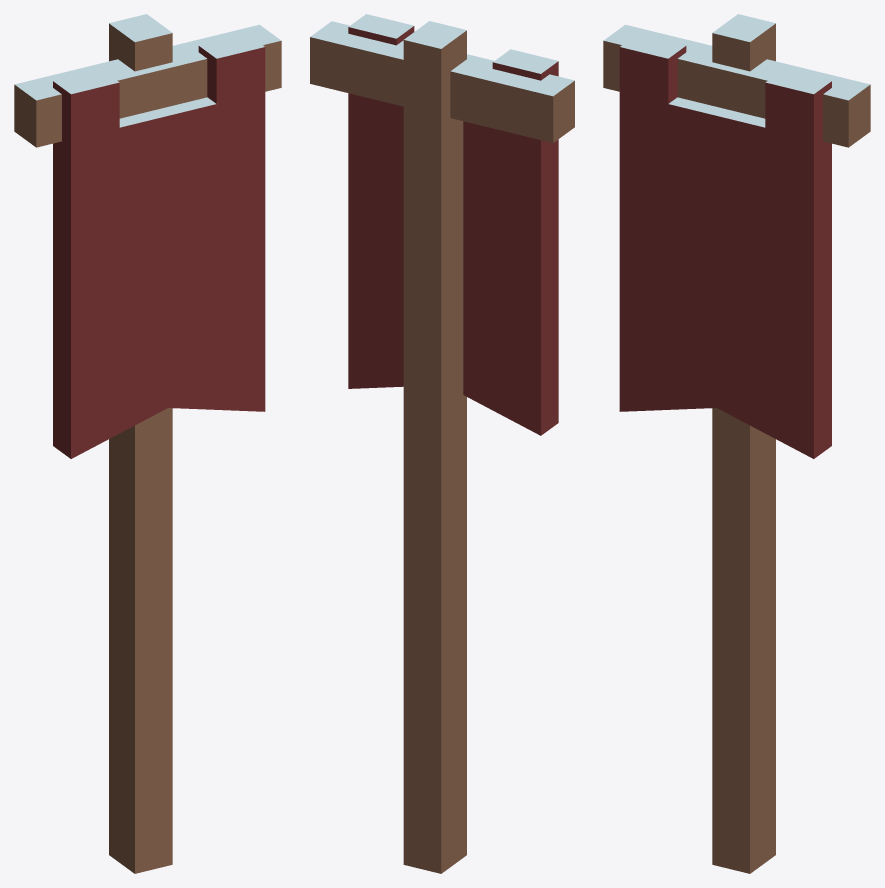
File: SM_Bld_Knights_Flag_04_Snow.fbx
The picture shows the model from 3 angles, left to right: view 1: azimuth 30°, elevation 25°; view 2: azimuth 150°, elevation 25°; view 3: azimuth 330°, elevation 25°; orthographic projection.
Parts seen in each view (by area): view 1: SM_Bld_Knights_Flag_04_Snow; view 2: SM_Bld_Knights_Flag_04_Snow; view 3: SM_Bld_Knights_Flag_04_Snow.
Part boxes in pixels (box(x1,y1,x2,y2)): SM_Bld_Knights_Flag_04_Snow: box(14, 14, 281, 873); SM_Bld_Knights_Flag_04_Snow: box(310, 14, 574, 873); SM_Bld_Knights_Flag_04_Snow: box(603, 14, 870, 873).
Bounding box in the file's own units: 35.14 × 114 × 10.01.
Materials: 1 (1 with a texture image).
